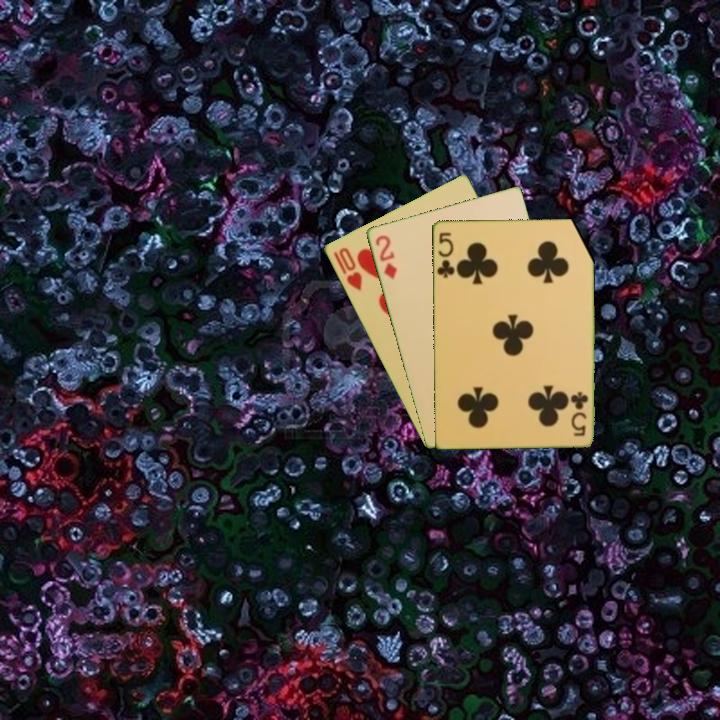10h: (329, 244, 365, 294)
2d: (371, 231, 399, 282)
5c: (433, 229, 457, 280), (569, 388, 590, 439)
